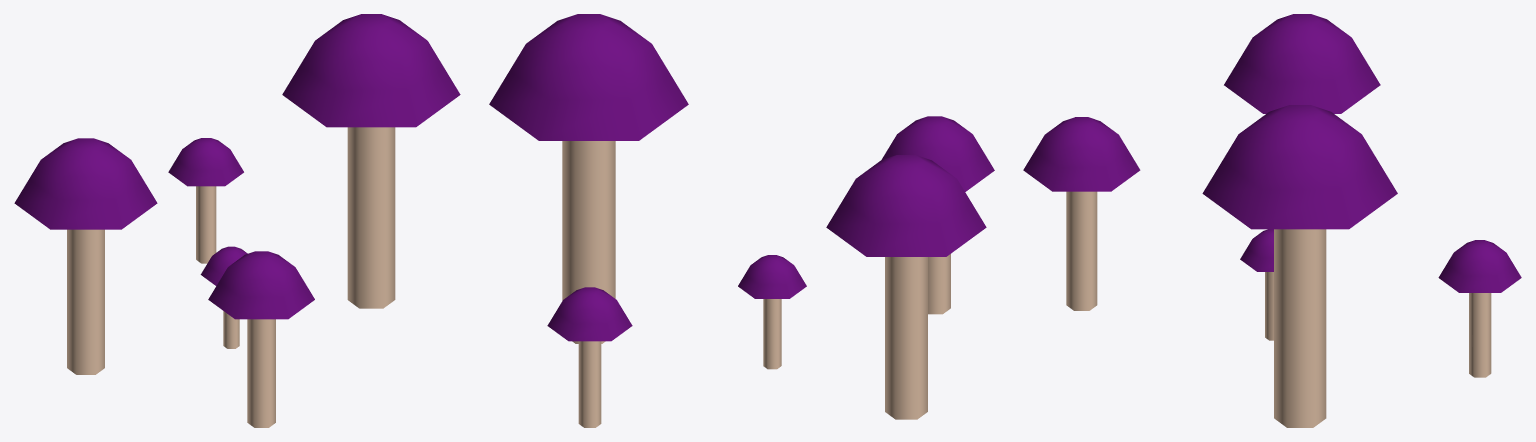
Rendered from minimushroom.fbx.
The picture shows the model from 3 angles, left to right: view 1: azimuth 30°, elevation 25°; view 2: azimuth 150°, elevation 25°; view 3: azimuth 270°, elevation 25°; orthographic projection. The views are drawn at different scales.
Visible parts, largest first — view 1: MINIMUSHROOM; view 2: MINIMUSHROOM; view 3: MINIMUSHROOM.
Part boxes in pixels (left/top/right/bottom): MINIMUSHROOM: left=14, top=14, right=460, bottom=427; MINIMUSHROOM: left=489, top=14, right=994, bottom=427; MINIMUSHROOM: left=1023, top=14, right=1521, bottom=427.
Bounding box in the file's own units: 78.52 × 51.63 × 76.38.
